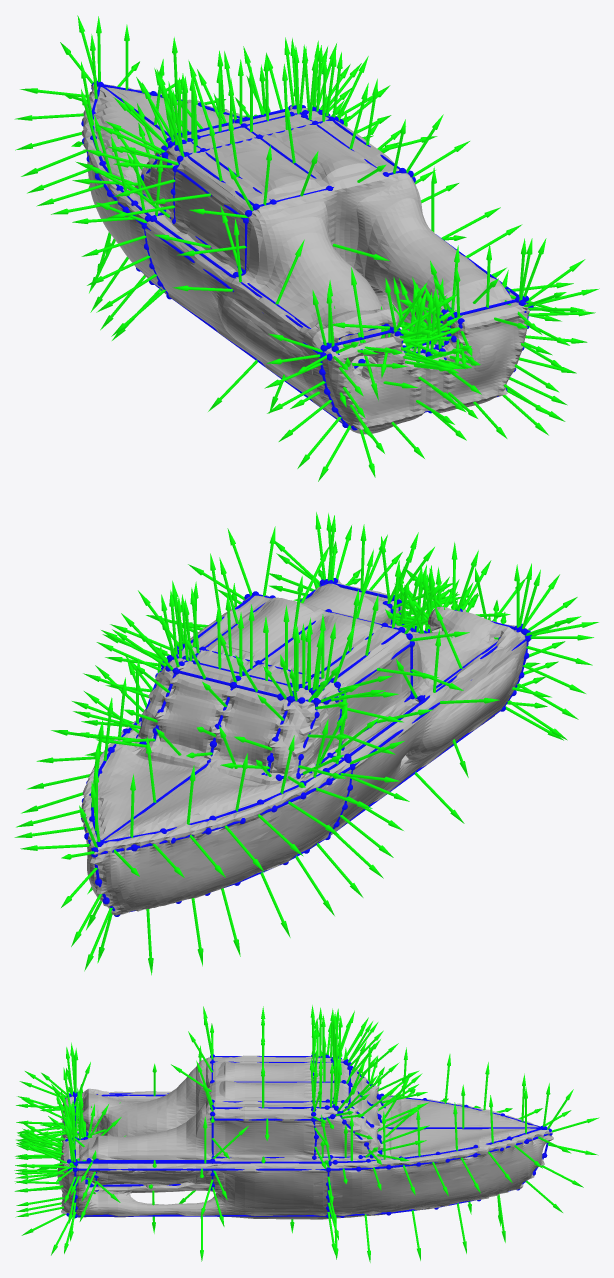
File: flowrep_boat.gltf
3 renders of one model, top to bottom at view 1: azimuth 30°, elevation 25°; view 2: azimuth 150°, elevation 25°; view 3: azimuth 270°, elevation 25°, orthographic. The views are drawn at different scales.
Size of the model in its own units: 0.5223 by 0.4205 by 1.11.
